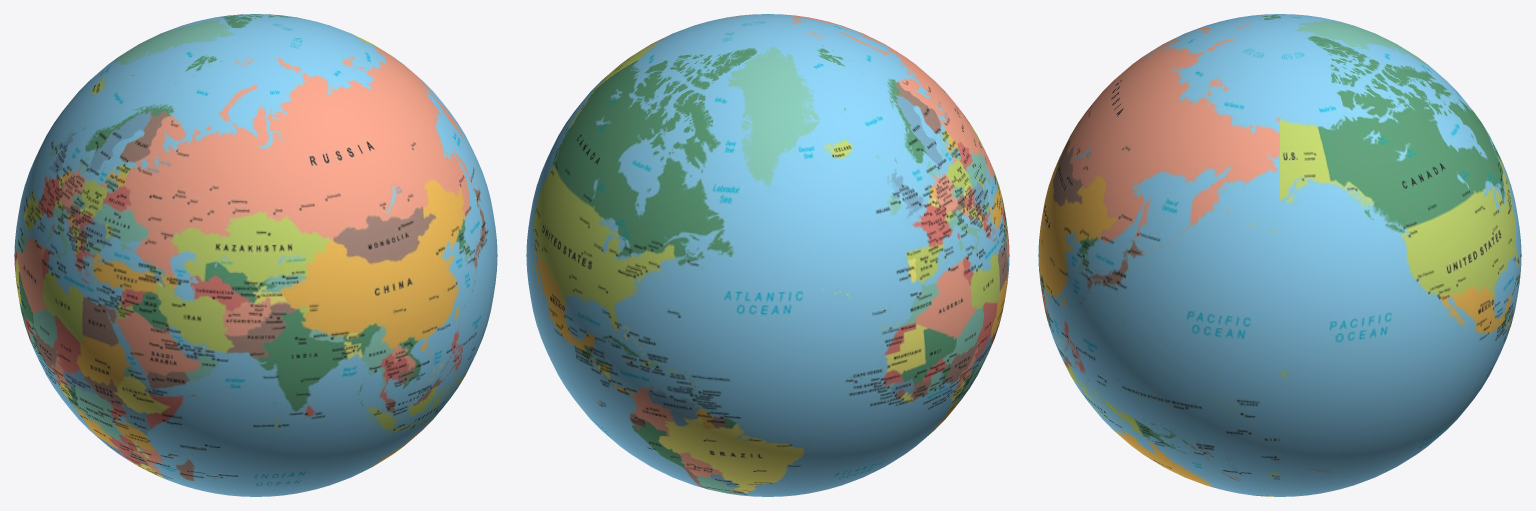
The model's file is tython.glb.
3 renders of one model, left to right at view 1: azimuth 30°, elevation 25°; view 2: azimuth 150°, elevation 25°; view 3: azimuth 270°, elevation 25°, orthographic.
Visible parts, largest first — view 1: Sphere_1; view 2: Sphere_1; view 3: Sphere_1.
Part boxes in pixels (x1,y1,x2,y2): Sphere_1: (14,14,497,496); Sphere_1: (526,14,1009,496); Sphere_1: (1038,14,1521,496).
Size of the model in its own units: 2 by 2 by 2.
1 material, 1 textured.
